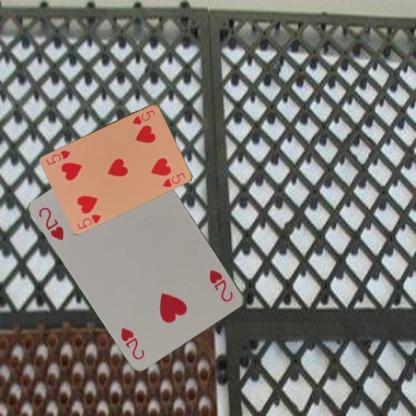2h: (206, 266, 236, 304), (36, 204, 66, 242)
5h: (74, 211, 102, 230), (130, 107, 157, 126)
